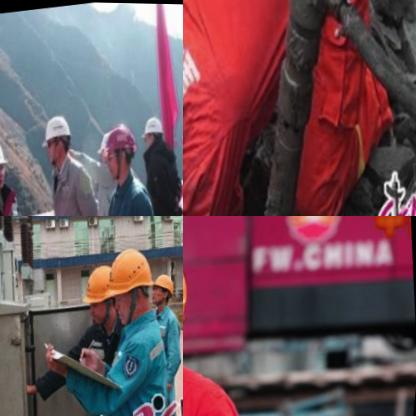helmet: (102, 239, 166, 325), (183, 220, 215, 374), (81, 257, 128, 333), (101, 118, 146, 184), (40, 108, 82, 168), (139, 107, 173, 156), (149, 268, 183, 311), (0, 132, 16, 194)
